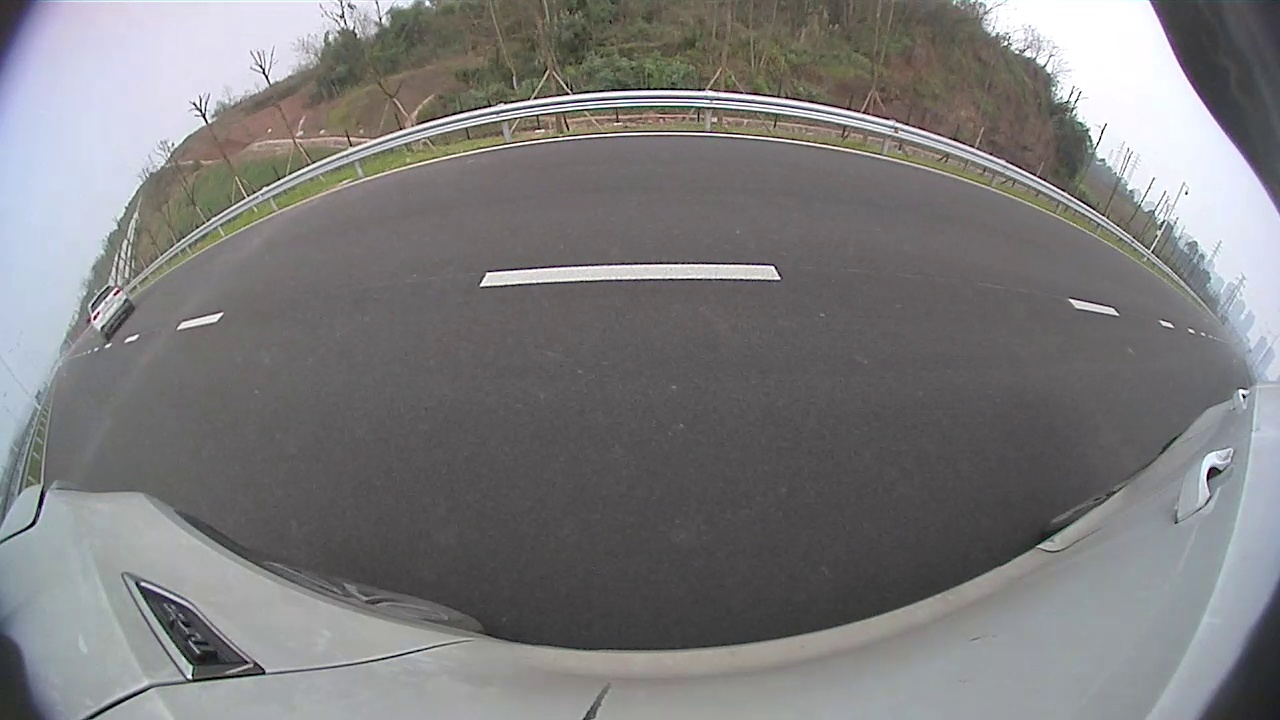car: (87, 284, 135, 341)
